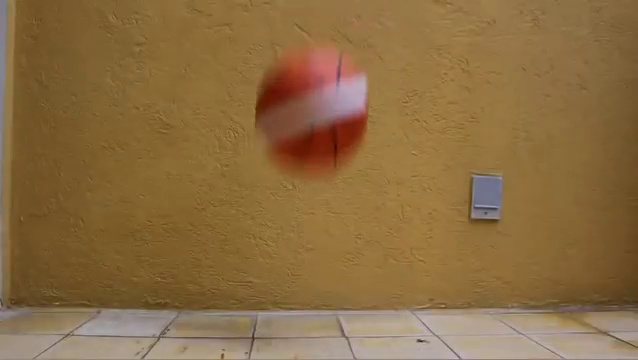ball: (257, 43, 373, 185)
